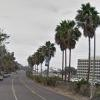Tree: (23, 6, 100, 75)
